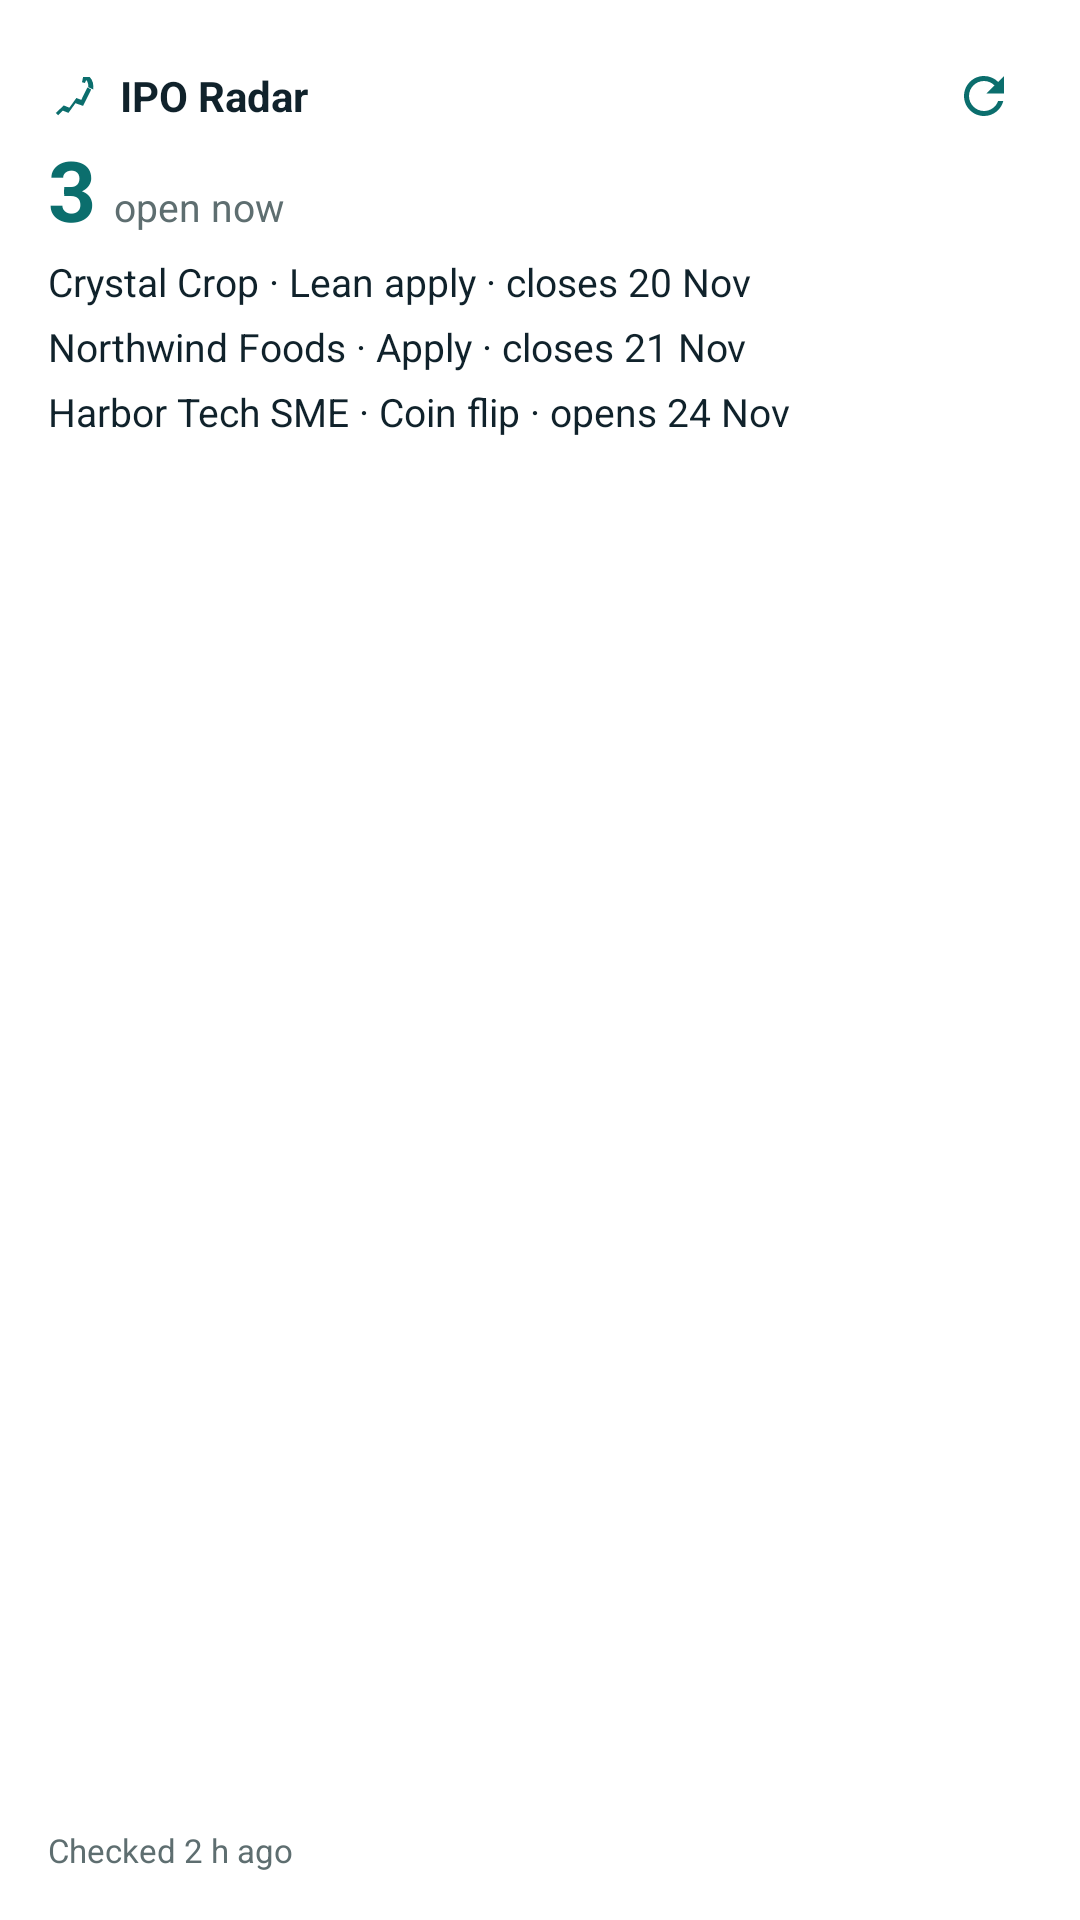

Screen size 1080w x 1920h. Icon name, then its center in pixels as (x=x, y=y):
widget mark: (x=75, y=96)
widget refresh: (x=984, y=96)
